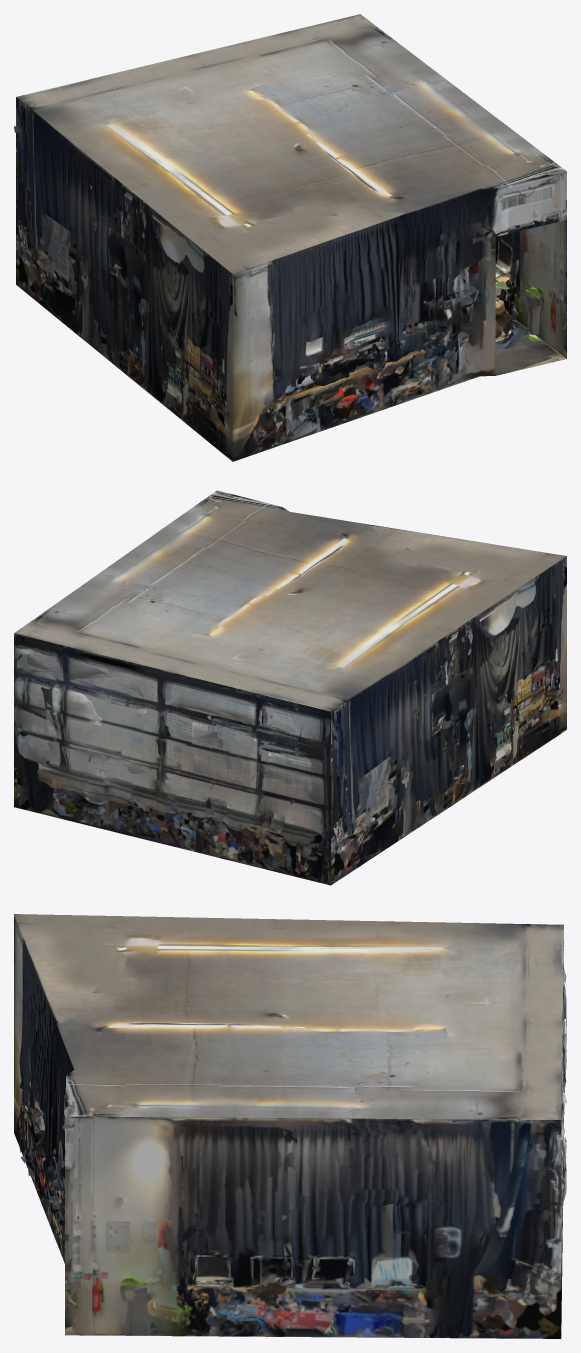
File: m113-IMv2.fbx
3 views of the same model, one above another, from view 1: azimuth 30°, elevation 25°; view 2: azimuth 150°, elevation 25°; view 3: azimuth 270°, elevation 25° (orthographic). The views are drawn at different scales.
Parts seen in each view (by area): view 1: M113-IM; view 2: M113-IM; view 3: M113-IM.
Boxes of the visible parts, x1,y1,x2,y2 form: M113-IM: (14, 14, 566, 461); M113-IM: (14, 490, 566, 885); M113-IM: (14, 914, 566, 1338).
Size of the model in its own units: 641 by 316 by 723.
